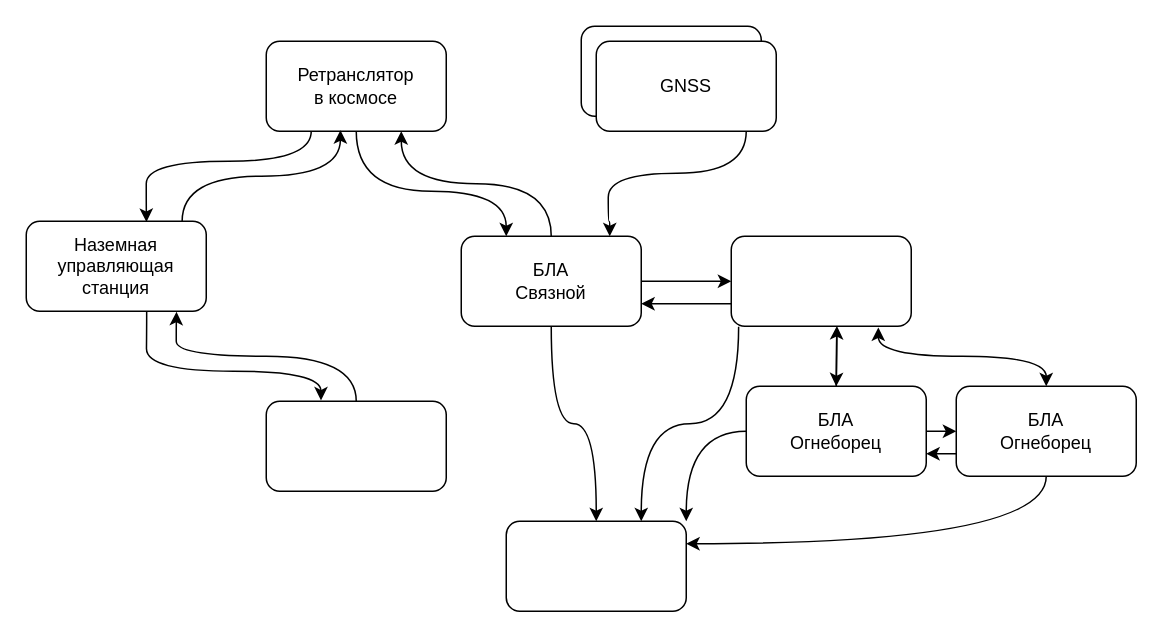
Image size: 1163x638. Some labels were removed from this diagram. The shapes that lost their labels are listed below. From the top down, each one's centre as x and y in pixels, then its label:
At [820,280]: "БЛА Наблюдатель-Разведчик-Стратег".
At [355,445]: "Пульт оператора".
At [595,565]: "БЛА Зарядка".
